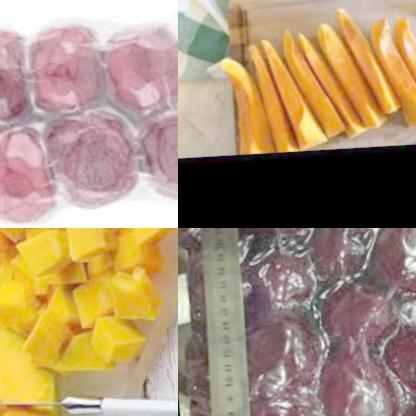beet: (221, 228, 416, 416), (31, 104, 143, 213), (24, 22, 118, 117), (106, 25, 178, 121), (0, 120, 55, 228), (125, 107, 178, 207), (0, 26, 48, 123)
garlic: (410, 1, 416, 24)
pumpkin: (0, 228, 178, 387), (312, 4, 399, 131), (277, 23, 364, 146), (240, 37, 316, 153), (208, 54, 270, 155), (368, 15, 416, 137), (0, 319, 60, 416)
